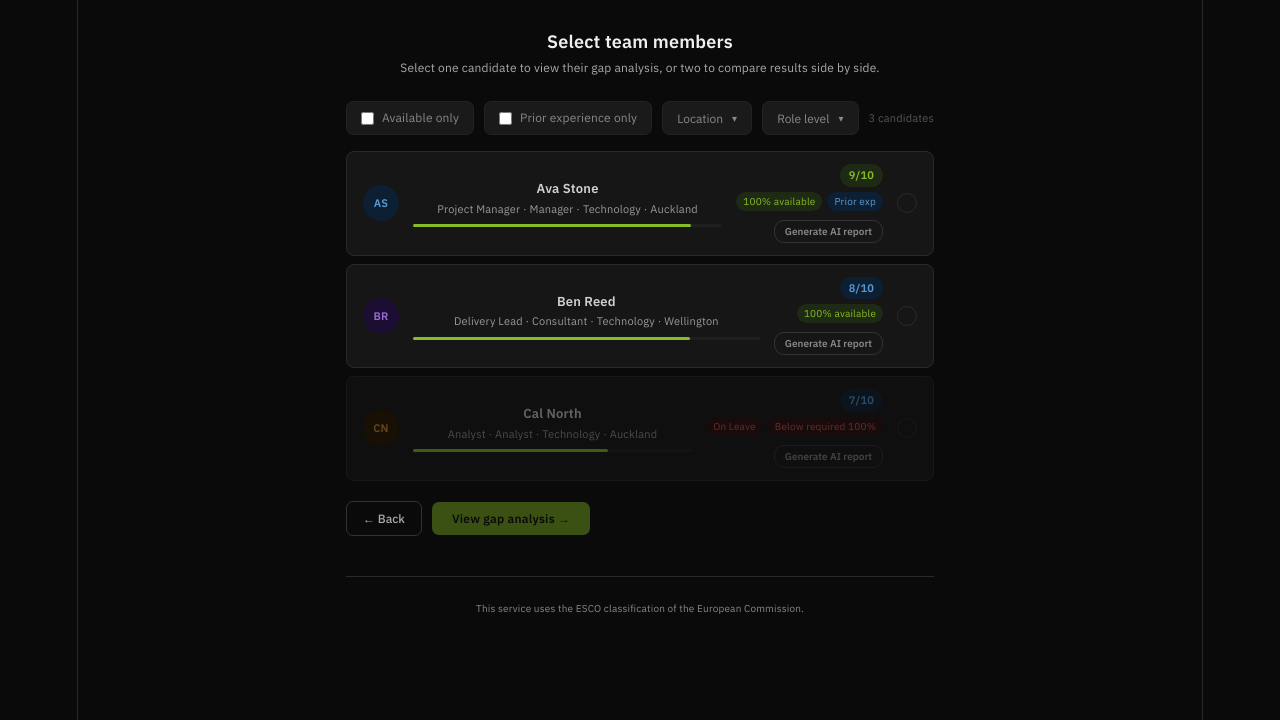
Test: Frame3 candidate selection workflow › shows and toggles an AI report for a candidate
Expected: the text "Ava Stone" is shown, 537,180 -> 599,197
Click the button "Generate AI report" below "Project Manager".
click(828, 231)  # box 774,220 -> 883,242
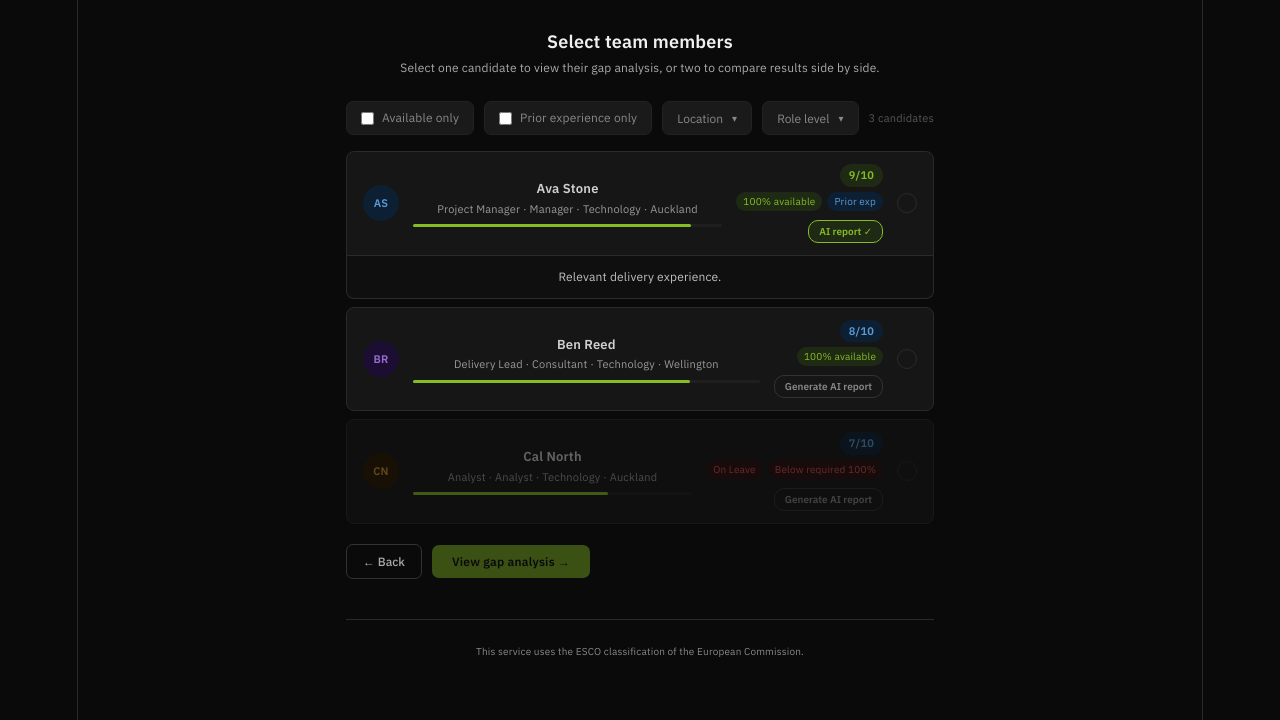
Now the text "Relevant delivery experience." is shown, box 558,268 -> 722,284
Click the button "AI report ✓".
click(846, 231)  # box 808,220 -> 883,242
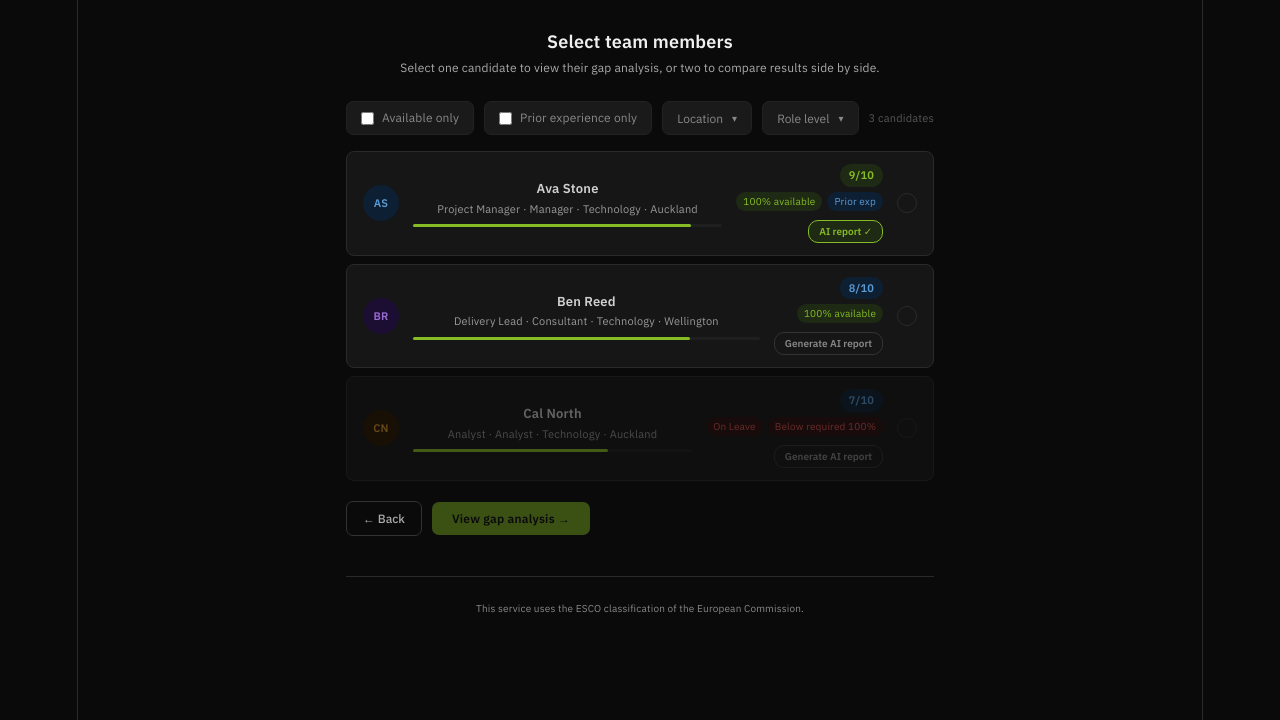
Now the text "Relevant delivery experience." is gone
